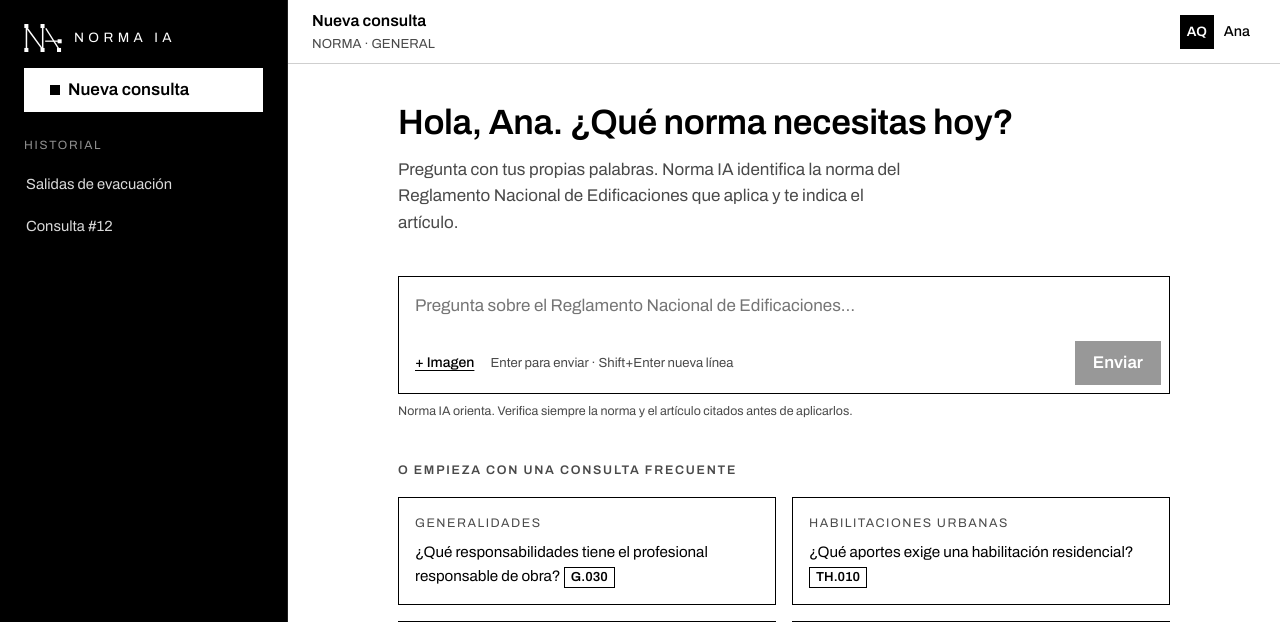
Test: chat del usuario final › abre una consulta del historial y carga sus mensajes
Click the button "Salidas de evacuación" at {"x": 144, "y": 184}, box [8, 163, 279, 205]
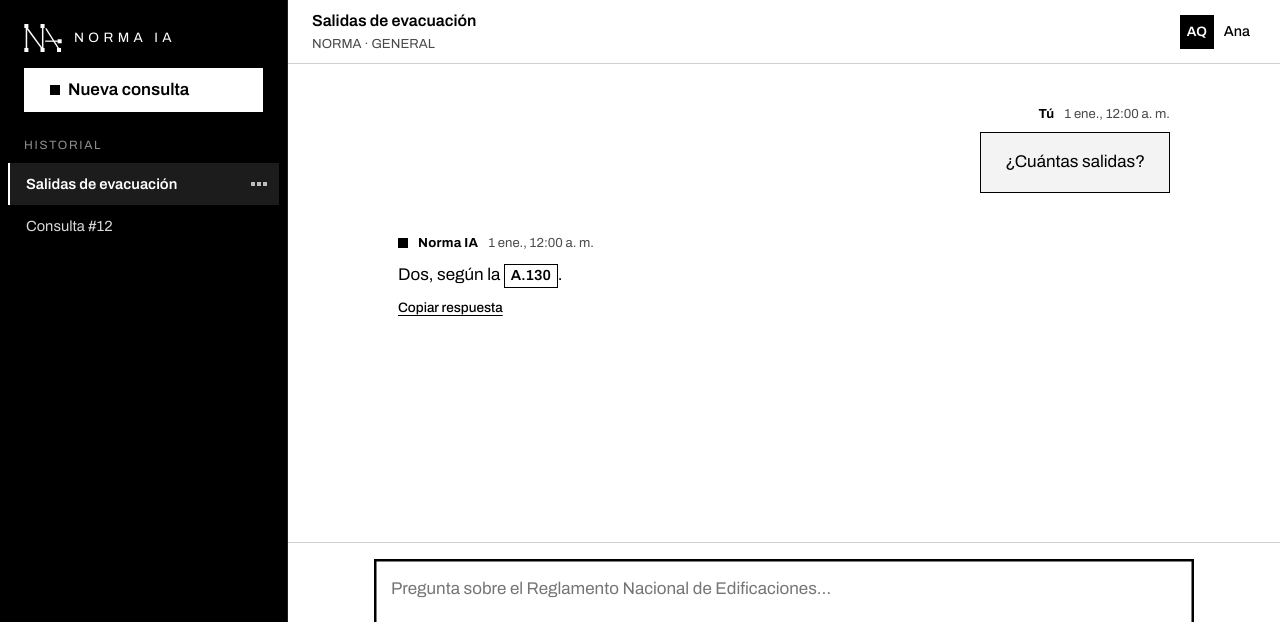
Result: the text "¿Cuántas salidas?" is shown at [980, 132, 1170, 193]
Result: the heading "Salidas de evacuación" is shown at [312, 12, 476, 29]
